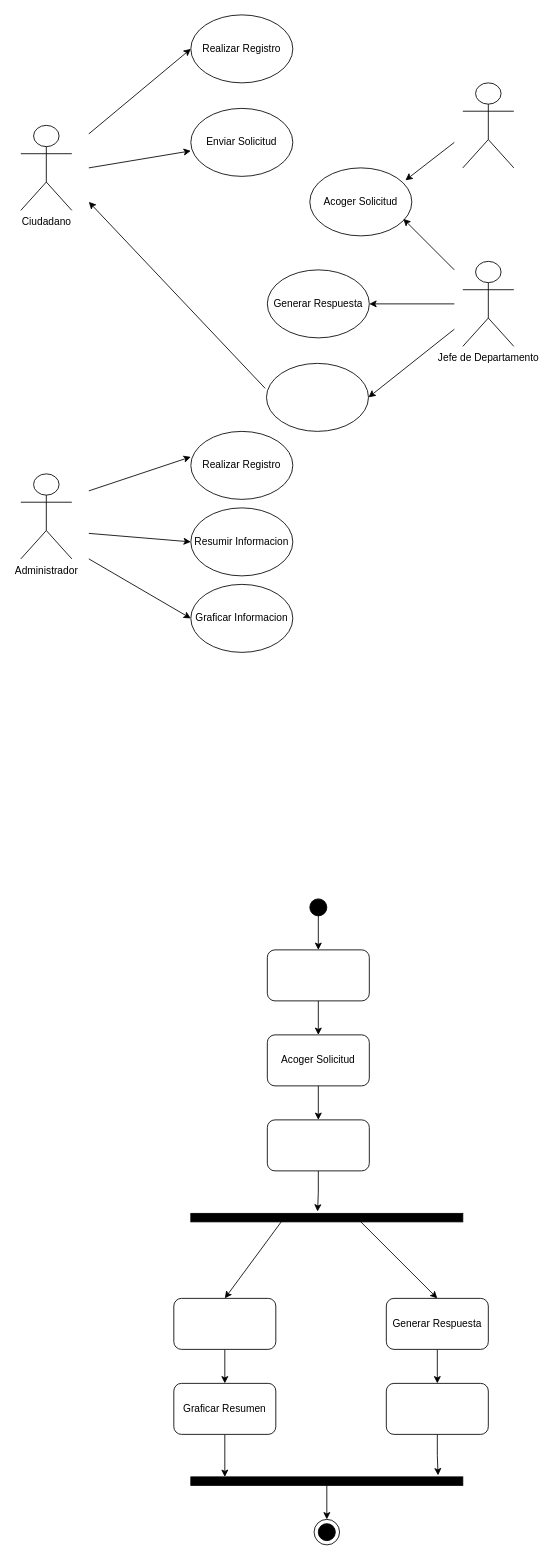
Image size: 553x1560. Some labels were removed from this diagram. Here are the shapes that lost their labels. From the top down, the centre of each, then its label:
At (488,125): "Sistema".
At (317,397): "Enviar Retroalimentación".
At (317,975): "Ingresar Solicitud".
At (317,1145): "Enviar al Departamento".
At (224,1323): "Generar Resumen".
At (436,1408): "Enviar Respuesta al Correo Electrónico".
